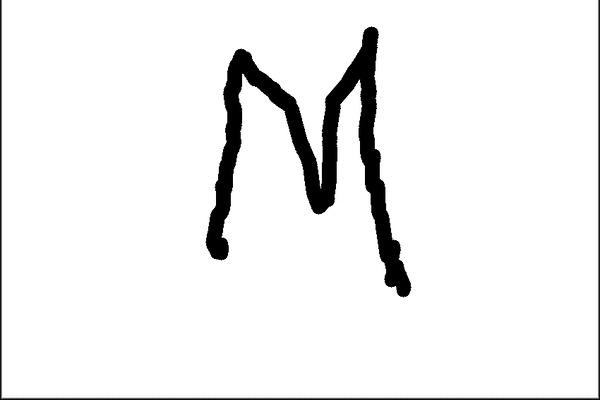M: (200, 24, 412, 296)
